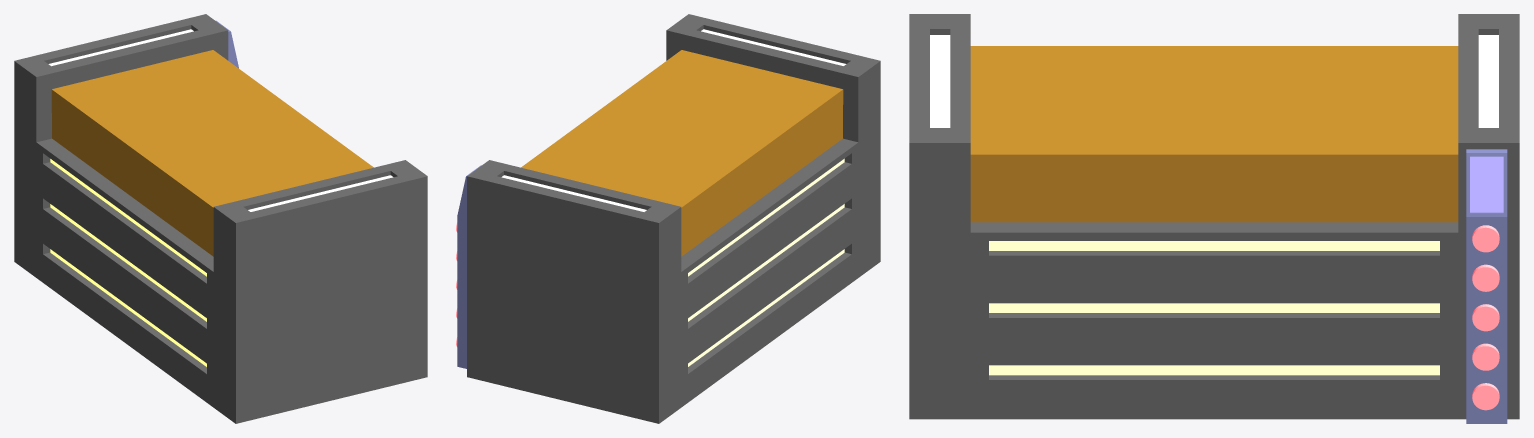
Rendered from Motor.fbx.
3 renders of one model, left to right at view 1: azimuth 30°, elevation 25°; view 2: azimuth 150°, elevation 25°; view 3: azimuth 270°, elevation 25°, orthographic. The views are drawn at different scales.
Parts seen in each view (by area): view 1: Motor; view 2: Motor, Motor Computer; view 3: Motor, Motor Computer, Lights.
Part boxes in pixels (x1,y1,x2,y2): Motor: [14, 14, 427, 423]; Motor: [467, 14, 880, 423]; Motor Computer: [457, 165, 481, 368]; Motor: [909, 14, 1519, 419]; Motor Computer: [1466, 149, 1507, 423]; Lights: [1472, 225, 1499, 410].
Bounding box in the file's own units: 109 × 100 × 200.
